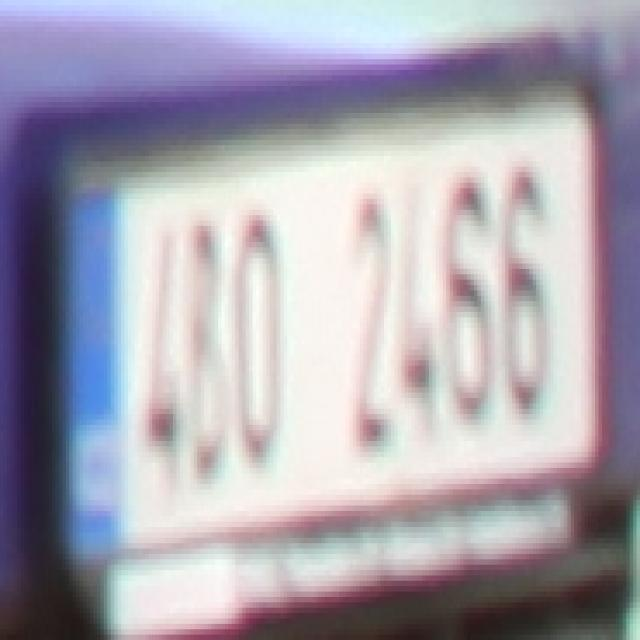0: (232, 205, 294, 490)
2: (336, 188, 388, 457)
4: (138, 220, 180, 495), (394, 177, 436, 452)
6: (432, 161, 495, 457), (498, 140, 550, 436)
B: (180, 215, 228, 495)
